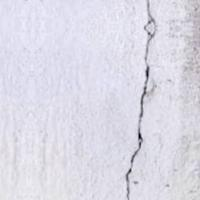crack: (123, 1, 180, 199)
